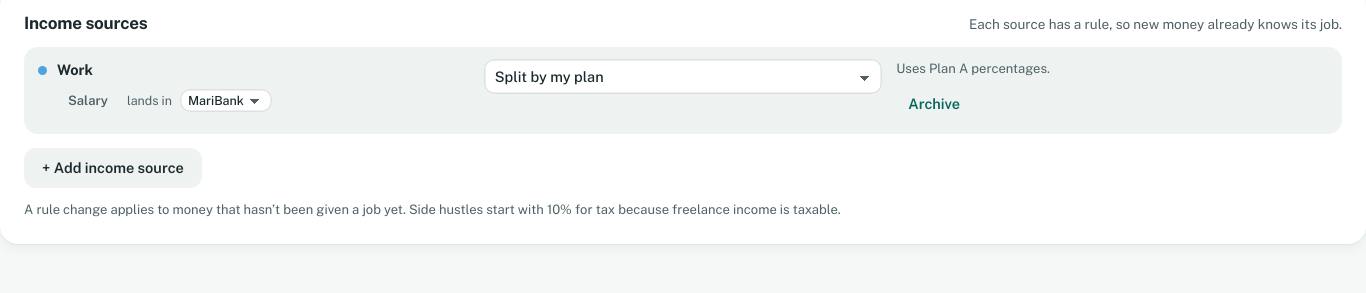
Test: IncomeSources › a failed rule change puts the old rule back and says why
Select "Ask me each time" in the dropdown named "Rule for Work". click: (683, 77)
box: [484,59,882,94]
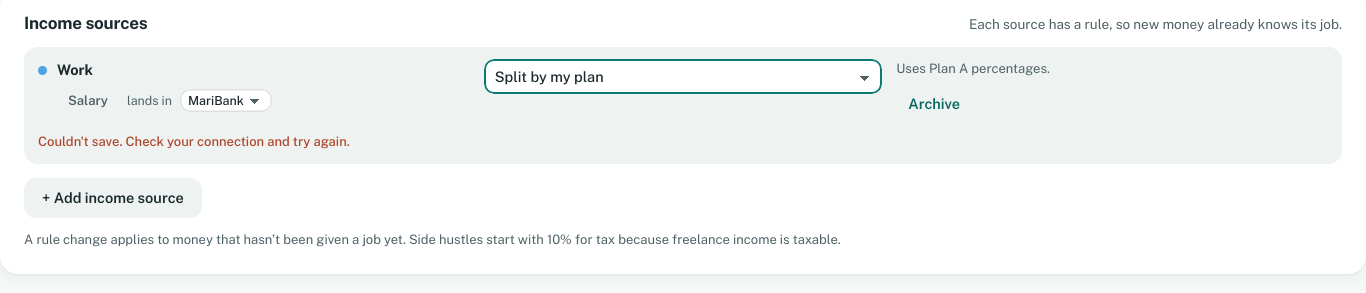
Expected: the text "Couldn't save. Check your connection and try again." is shown, [38,134,350,149]
